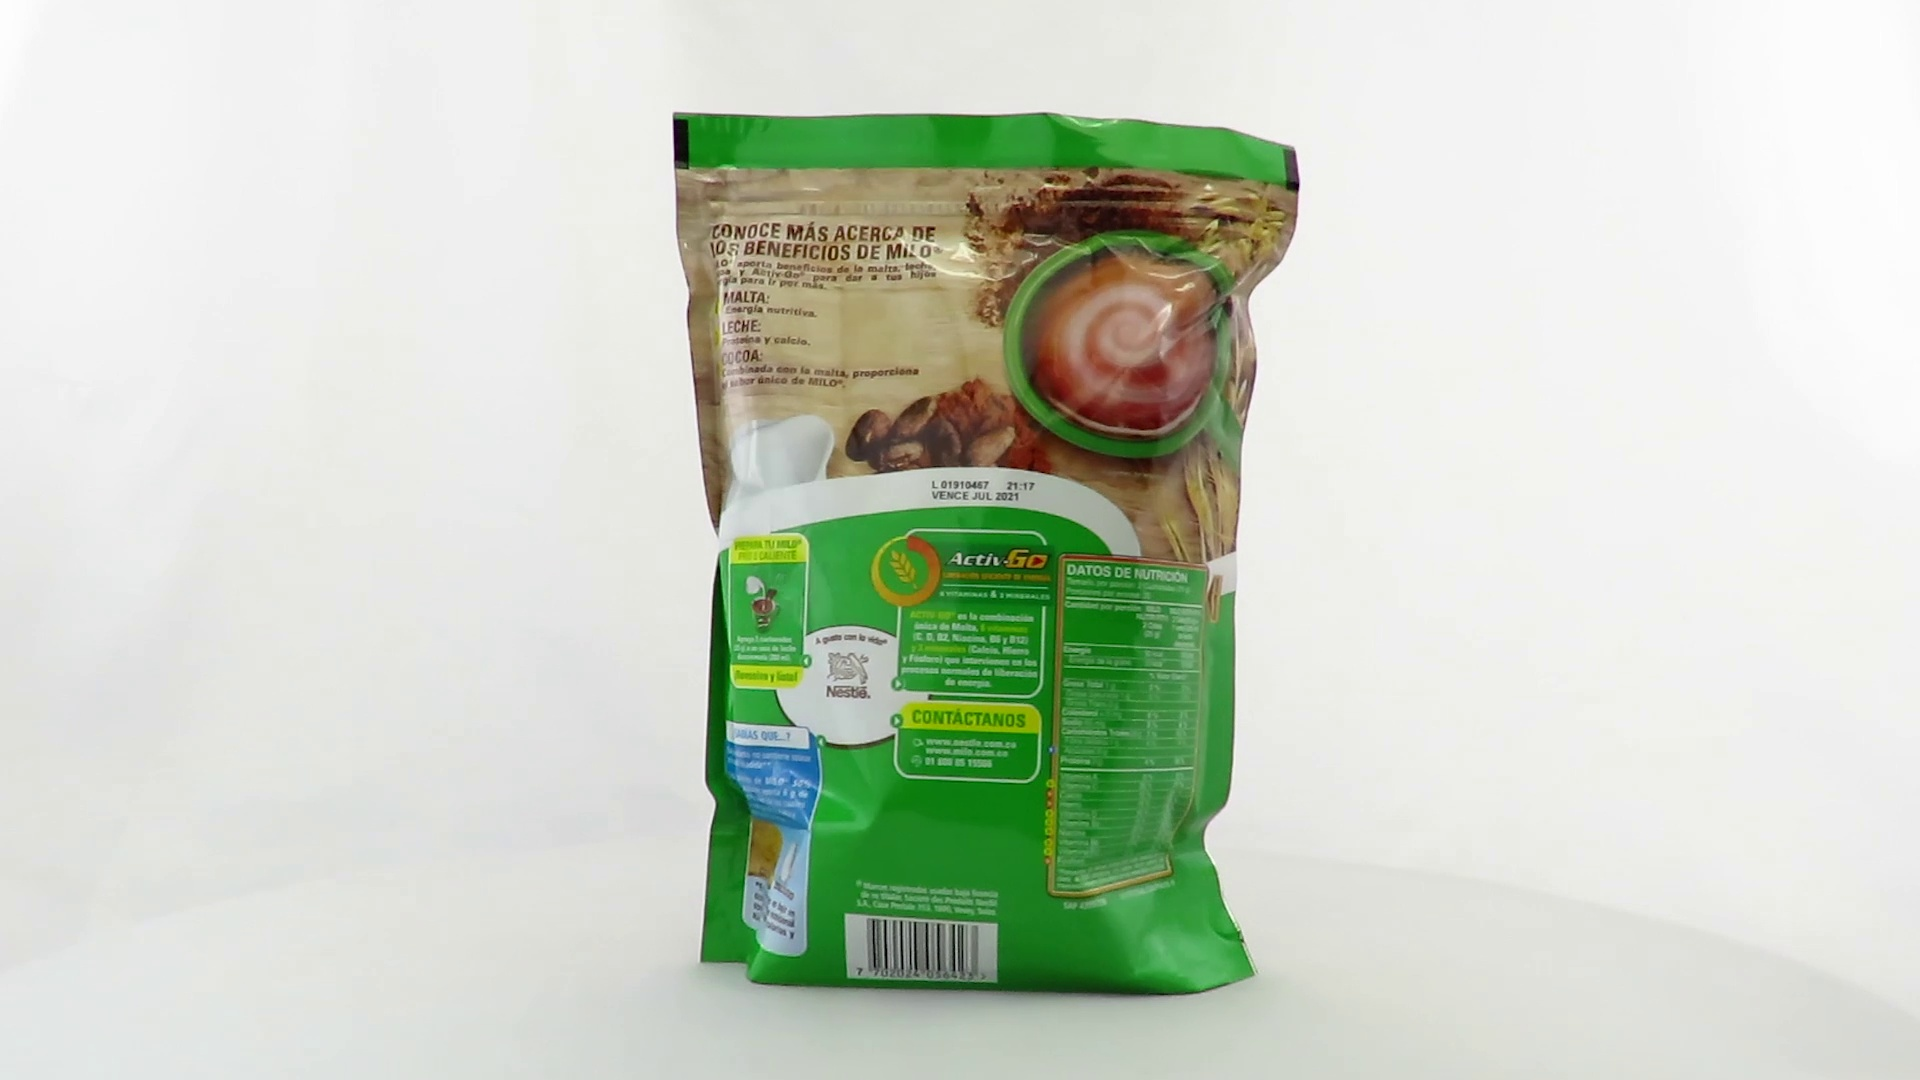COL0170205DYP50000: (667, 107, 1305, 1004)
